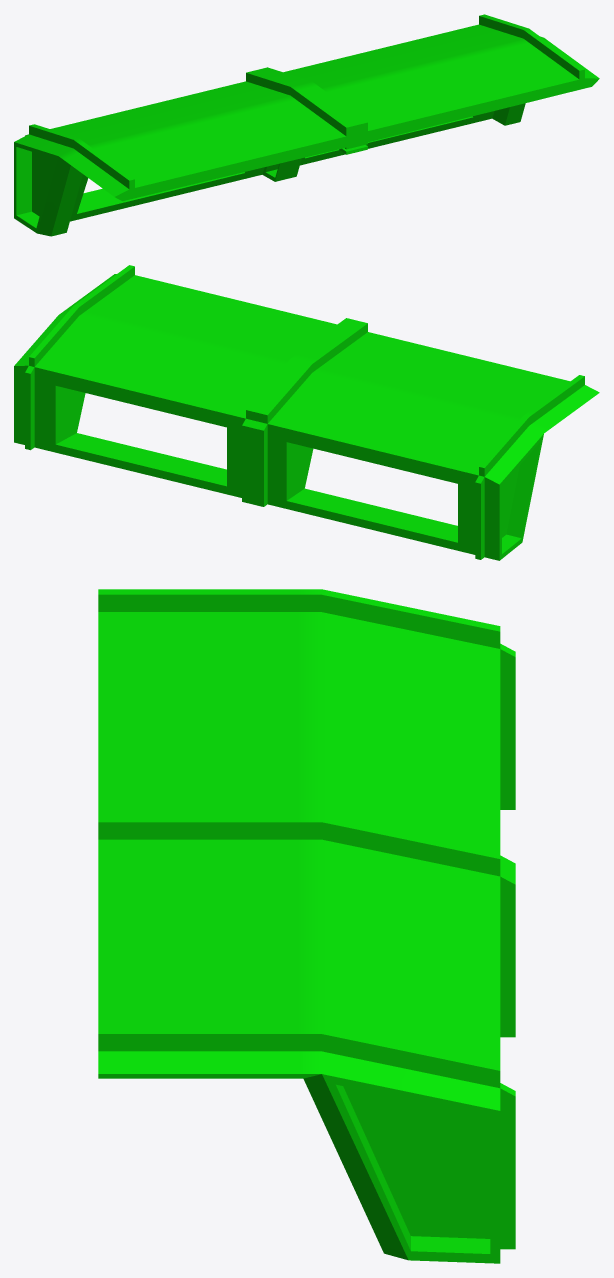
The model's file is Mdl_Vagon_techo_ventanal_h.fbx.
The picture shows the model from 3 angles, top to bottom: view 1: azimuth 30°, elevation 25°; view 2: azimuth 150°, elevation 25°; view 3: azimuth 270°, elevation 25°; orthographic projection. The views are drawn at different scales.
Visible parts, largest first — view 1: Mdl_Vagon_techo_ventanal_h; view 2: Mdl_Vagon_techo_ventanal_h; view 3: Mdl_Vagon_techo_ventanal_h.
Boxes of the visible parts, bbox=[...] form: Mdl_Vagon_techo_ventanal_h: bbox=[14, 14, 599, 236]; Mdl_Vagon_techo_ventanal_h: bbox=[14, 265, 599, 560]; Mdl_Vagon_techo_ventanal_h: bbox=[98, 589, 515, 1263].
Size of the model in its own units: 59.53 by 12.71 by 22.14.
